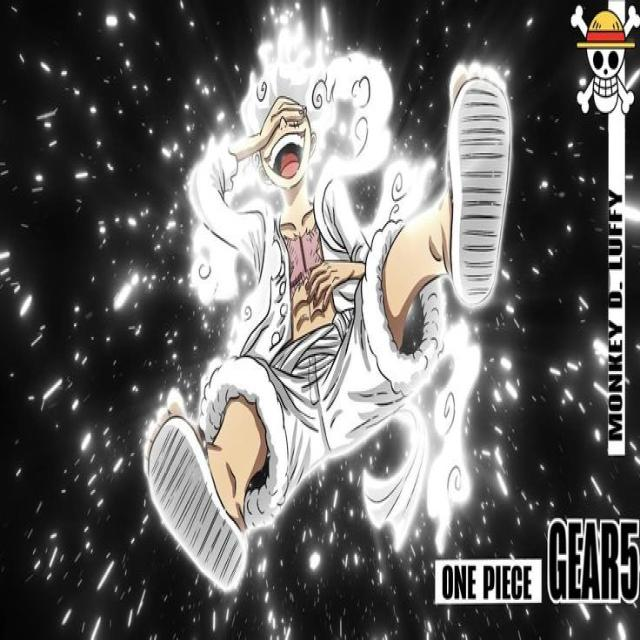luffy: (144, 0, 539, 587)
